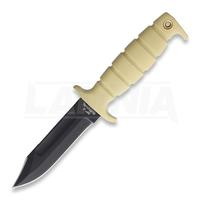knife: (10, 27, 169, 192)
